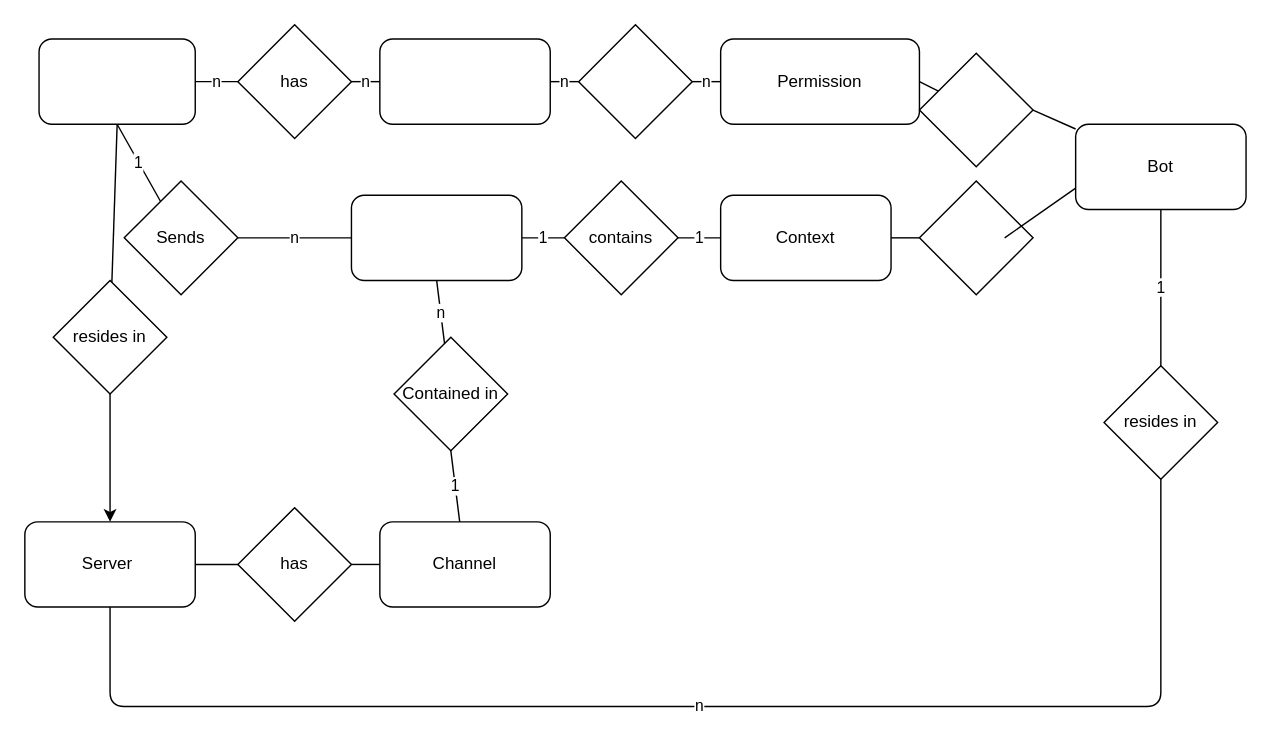
Some shapes in this 1271 by 740 pixel diagram are drawn without their labels. The shapes that lost their labels are listed below. From the top down, each one's centre as x and y in pixels, then its label:
the point at 116,81: Member
the point at 464,81: Role
the point at 634,80: Gives
the point at 975,109: is Given by
the point at 436,237: Message
the point at 975,237: is Read By
